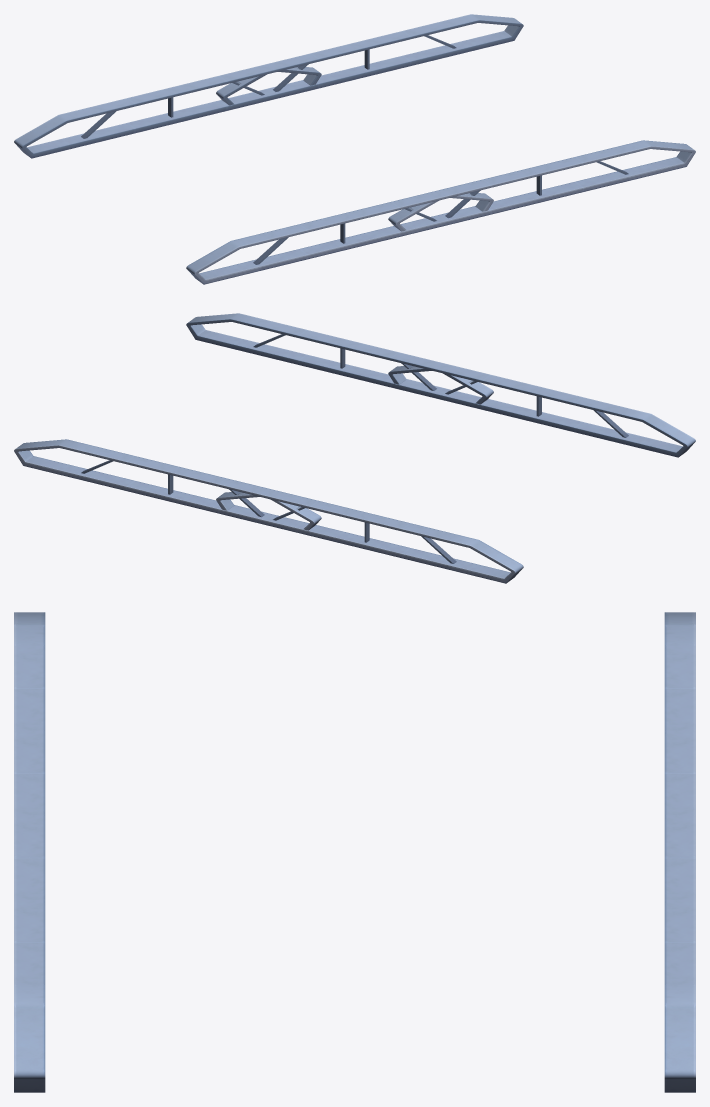
The model's file is mesh_1002_jxl_001b.FBX.
3 views of the same model, one above another, from view 1: azimuth 30°, elevation 25°; view 2: azimuth 150°, elevation 25°; view 3: azimuth 270°, elevation 25° (orthographic). The views are drawn at different scales.
Visible parts, largest first — view 1: mesh_1002_jxl_001b; view 2: mesh_1002_jxl_001b; view 3: mesh_1002_jxl_001b.
Boxes of the visible parts, bbox=[...] form: mesh_1002_jxl_001b: bbox=[14, 14, 695, 284]; mesh_1002_jxl_001b: bbox=[14, 313, 695, 583]; mesh_1002_jxl_001b: bbox=[14, 612, 695, 1092].
Bounding box in the file's own units: 1687 × 93.54 × 1052.
